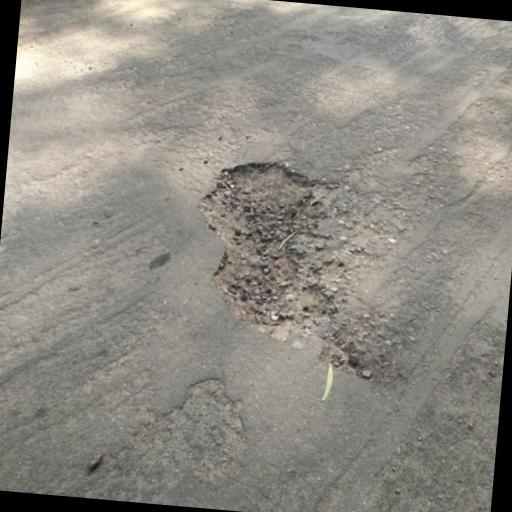pothole: (184, 154, 348, 345)
